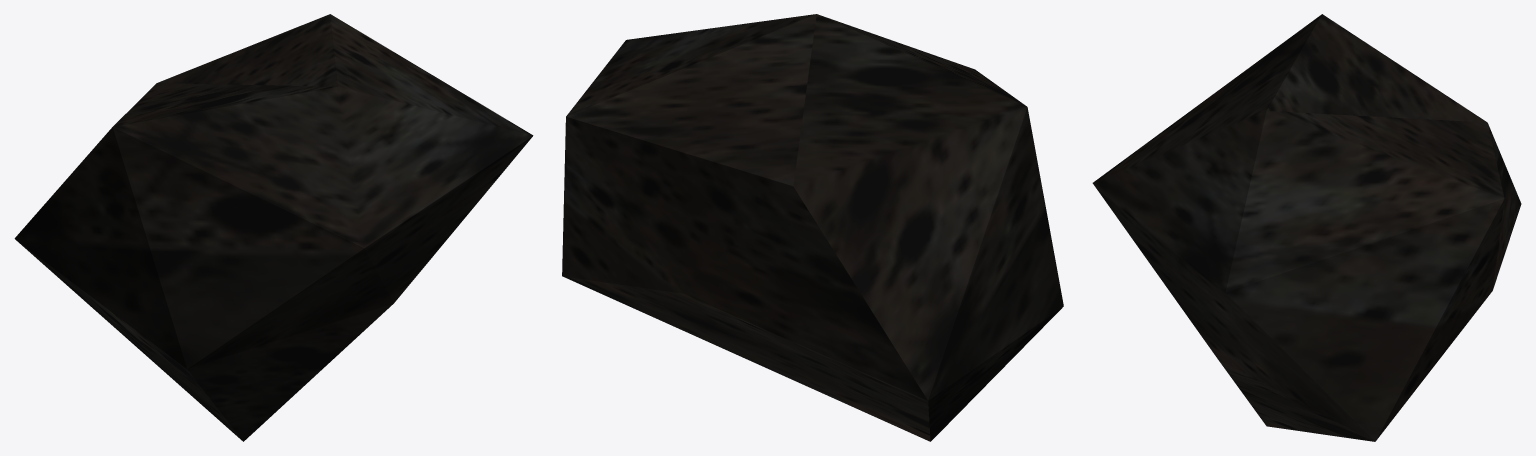
The model's file is CoalPiece3.fbx.
3 views of the same model, side by side, from view 1: azimuth 30°, elevation 25°; view 2: azimuth 150°, elevation 25°; view 3: azimuth 270°, elevation 25° (orthographic). The views are drawn at different scales.
Visible parts, largest first — view 1: pPlatonic3; view 2: pPlatonic3; view 3: pPlatonic3.
Boxes of the visible parts, <box> form: pPlatonic3: <box>14,14,533,441</box>; pPlatonic3: <box>562,14,1063,441</box>; pPlatonic3: <box>1092,14,1521,441</box>.
Bounding box in the file's own units: 0.8696 × 0.7169 × 0.761.
